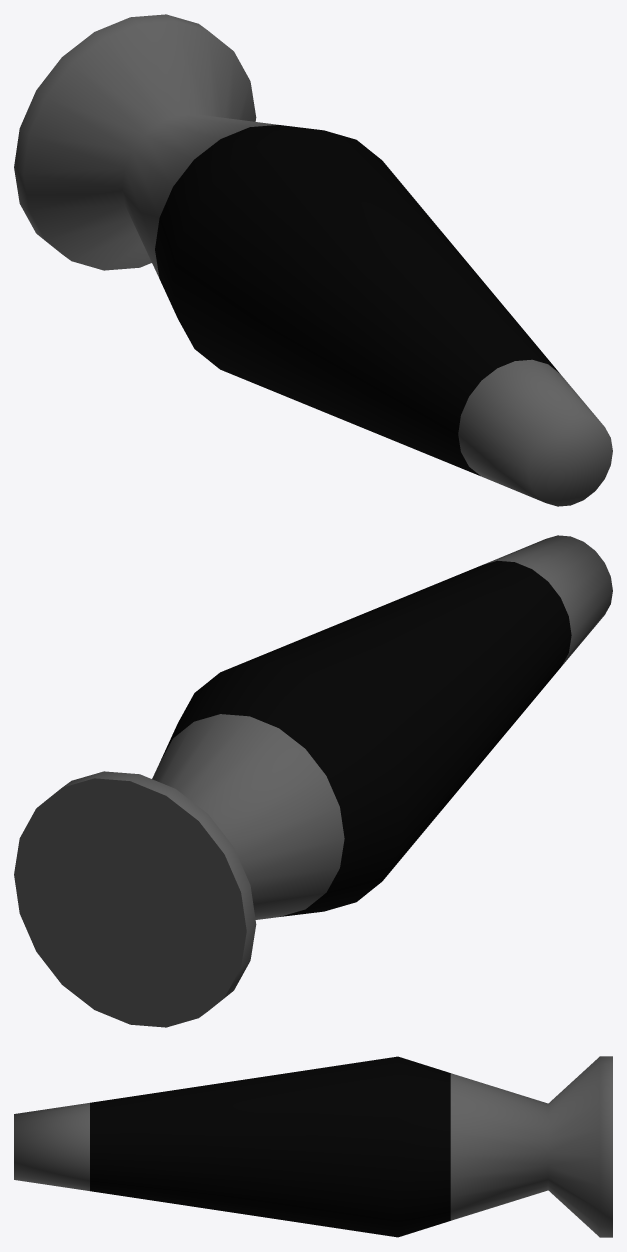
The model's file is nt_2020_lava_lamp_01_LOD1.obj.
3 views of the same model, one above another, from view 1: azimuth 30°, elevation 25°; view 2: azimuth 150°, elevation 25°; view 3: azimuth 270°, elevation 25° (orthographic). The views are drawn at different scales.
Parts seen in each view (by area): view 1: mtl_nt_2020_lava_lamp_01, mtl_nt_2020_lava_lamp_01_chrome; view 2: mtl_nt_2020_lava_lamp_01_chrome, mtl_nt_2020_lava_lamp_01; view 3: mtl_nt_2020_lava_lamp_01, mtl_nt_2020_lava_lamp_01_chrome.
Boxes of the visible parts, x1,y1,x2,y2 form: mtl_nt_2020_lava_lamp_01: (155,125,559,476); mtl_nt_2020_lava_lamp_01_chrome: (14,14,612,506); mtl_nt_2020_lava_lamp_01_chrome: (14,535,612,1027); mtl_nt_2020_lava_lamp_01: (160,560,571,916); mtl_nt_2020_lava_lamp_01: (90,1056,450,1237); mtl_nt_2020_lava_lamp_01_chrome: (14,1056,612,1237).
Size of the model in its own units: 17.96 by 17.96 by 58.85.
